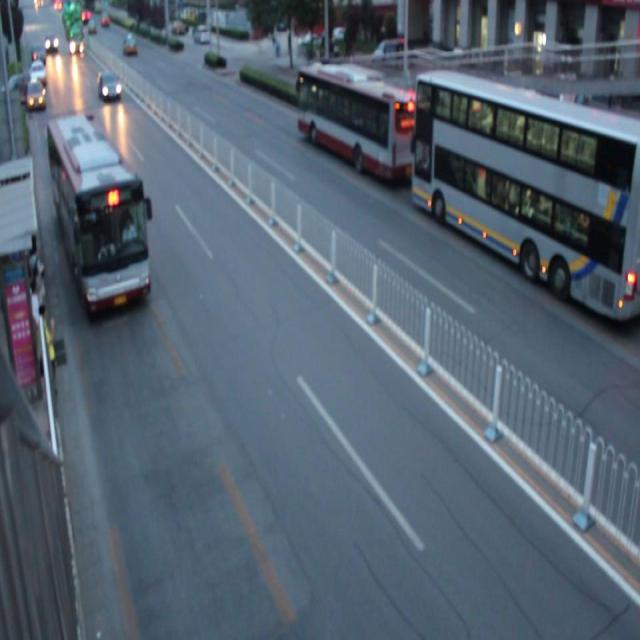car: (98, 68, 121, 100), (26, 80, 47, 108)
van: (410, 69, 640, 322), (46, 116, 149, 307), (297, 65, 419, 182)
